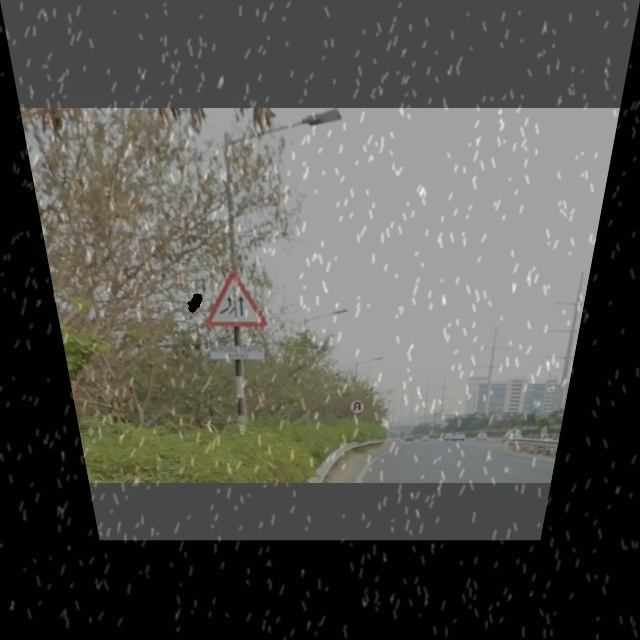Merge_Traffic_Ahead: (195, 262, 270, 330)
